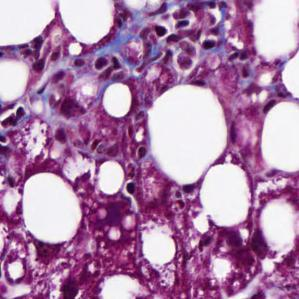inflammation: (89, 46, 134, 81)
